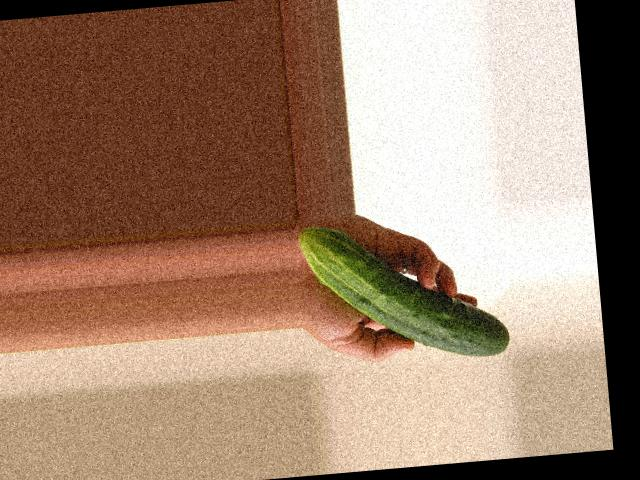cucumber: (298, 210, 510, 370)
